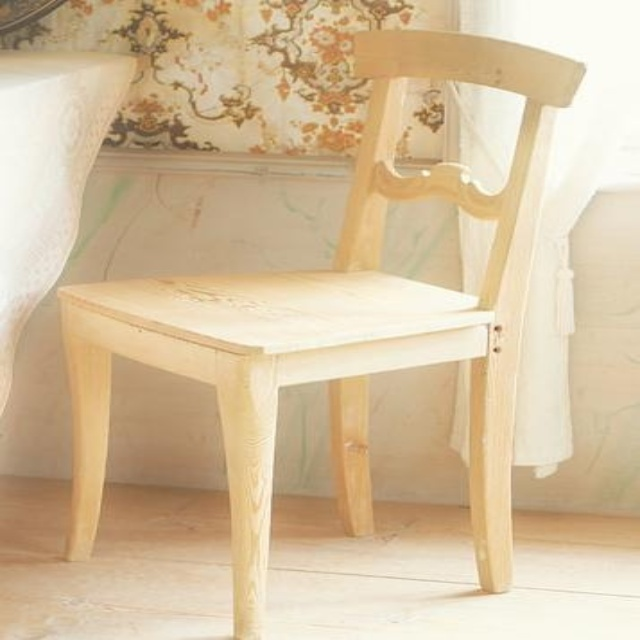obstacle: (59, 30, 583, 639)
